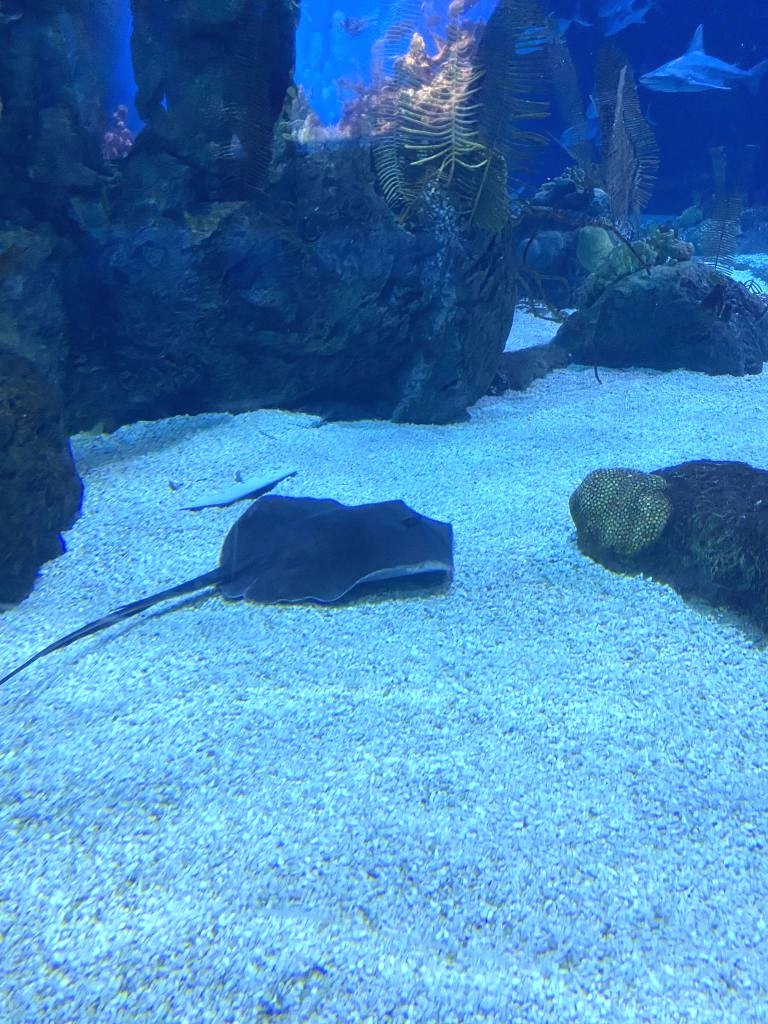fish: (560, 100, 656, 152), (516, 0, 594, 54), (599, 0, 666, 37)
shark: (637, 18, 767, 94)
stingray: (215, 490, 457, 608)
